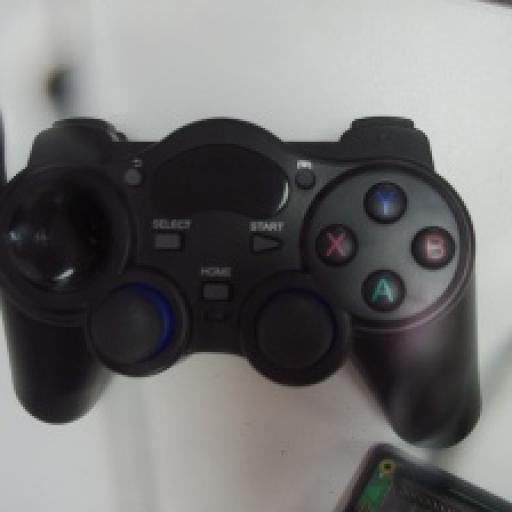game pad: (0, 116, 473, 443)
